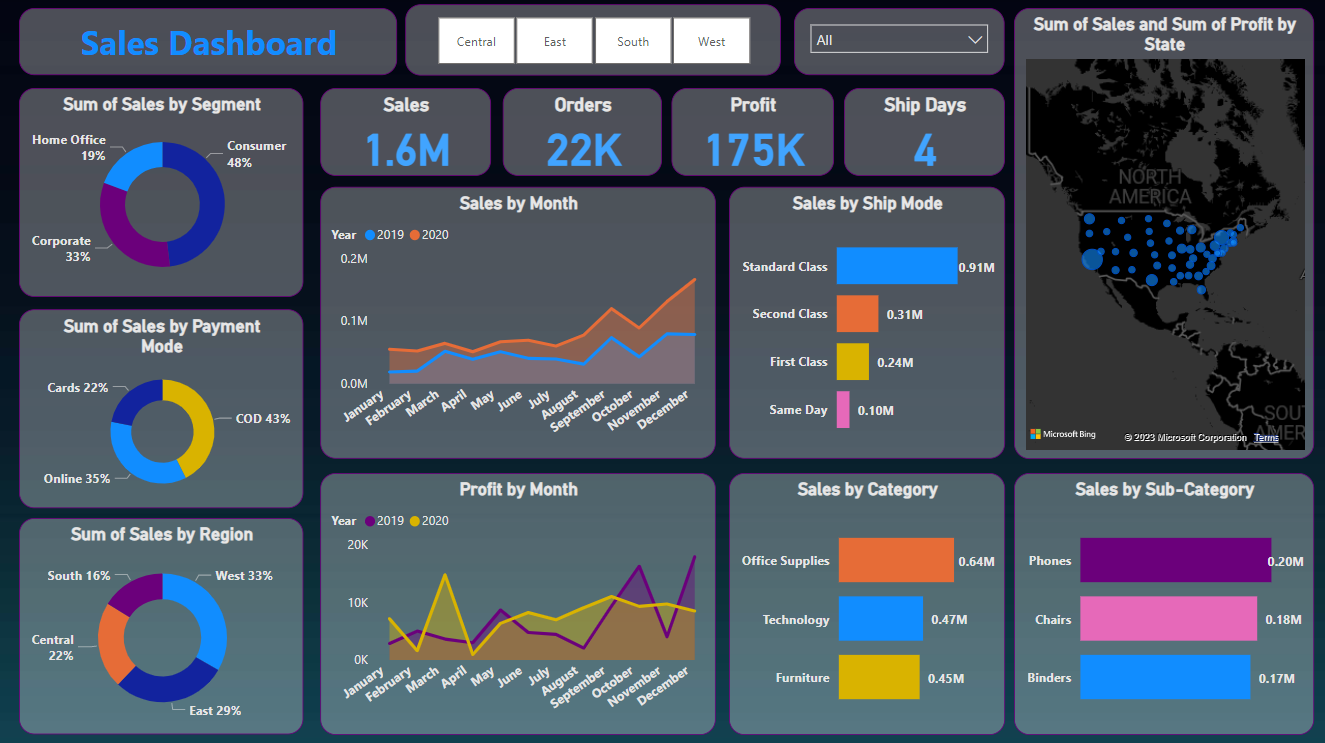

The page's visual inventory and layout, read from the dashboard file:
{"tool":"powerbi","page":{"name":"Page 1","canvas":[1280,720],"ordinal":0},"visuals":[{"type":"clusteredBarChart","title":"Sales by Category","fields":{"Category":["SuperStore_Sales_Dataset.Category"],"Y":["Sum(SuperStore_Sales_Dataset.Sales)"]},"box":[703.9,458.3,266.2,252.5],"z":0},{"type":"clusteredBarChart","title":"Sales by Sub-Category","fields":{"Y":["Sum(SuperStore_Sales_Dataset.Sales)"],"Category":["SuperStore_Sales_Dataset.Sub-Category"]},"box":[979.8,458.3,289.5,252.5],"z":1000},{"type":"clusteredBarChart","title":"Sales by Ship Mode","fields":{"Y":["Sum(SuperStore_Sales_Dataset.Sales)"],"Category":["SuperStore_Sales_Dataset.Ship Mode"]},"box":[703.9,182.5,266.2,262.1],"z":2000},{"type":"areaChart","title":"Sales by Month","fields":{"Y":["Sum(SuperStore_Sales_Dataset.Sales)"],"Category":["SuperStore_Sales_Dataset.Order Date.Variation.Date Hierarchy.Month","SuperStore_Sales_Dataset.Order Date.Variation.Date Hierarchy.Day"],"Series":["SuperStore_Sales_Dataset.Order Date.Variation.Date Hierarchy.Year"]},"box":[310.1,182.5,381.5,262.1],"z":3000},{"type":"areaChart","title":"Profit by Month","fields":{"Category":["SuperStore_Sales_Dataset.Order Date.Variation.Date Hierarchy.Month","SuperStore_Sales_Dataset.Order Date.Variation.Date Hierarchy.Day"],"Series":["SuperStore_Sales_Dataset.Order Date.Variation.Date Hierarchy.Year"],"Y":["Sum(SuperStore_Sales_Dataset.Profit)"]},"box":[310.1,458.3,381.5,252.5],"z":4000},{"type":"map","fields":{"Category":["SuperStore_Sales_Dataset.State"],"Size":["Sum(SuperStore_Sales_Dataset.Sales)"]},"box":[979.8,9.6,289.5,435],"z":5000},{"type":"donutChart","fields":{"Category":["SuperStore_Sales_Dataset.Segment"],"Y":["Sum(SuperStore_Sales_Dataset.Sales)"]},"box":[19.2,86.4,274.4,201.7],"z":6000},{"type":"donutChart","fields":{"Y":["Sum(SuperStore_Sales_Dataset.Sales)"],"Category":["SuperStore_Sales_Dataset.Payment Mode"]},"box":[19.2,300.5,274.4,192.1],"z":7000},{"type":"donutChart","fields":{"Y":["Sum(SuperStore_Sales_Dataset.Sales)"],"Category":["SuperStore_Sales_Dataset.Region"]},"box":[19.2,502.2,274.4,208.6],"z":8000},{"type":"slicer","fields":{"Values":["SuperStore_Sales_Dataset.Region"]},"box":[392.5,5.5,362.3,68.6],"z":9000},{"type":"textbox","box":[19.2,9.6,365,64.5],"z":10000},{"type":"card","title":"Sales","fields":{"Values":["Sum(SuperStore_Sales_Dataset.Sales)"]},"box":[310.1,86.4,164.7,85.1],"z":11000},{"type":"card","title":"Orders","fields":{"Values":["Sum(SuperStore_Sales_Dataset.Quantity)"]},"box":[485.8,86.4,153.7,85.1],"z":12000},{"type":"card","title":"Profit","fields":{"Values":["Sum(SuperStore_Sales_Dataset.Profit)"]},"box":[649.1,86.4,156.4,85.1],"z":13000},{"type":"card","title":"Ship Days","fields":{"Values":["Avg(SuperStore_Sales_Dataset.Avg del)"]},"box":[815.1,86.4,155.1,85.1],"z":14000},{"type":"slicer","fields":{"Values":["SuperStore_Sales_Dataset.City"]},"box":[767.1,9.6,203.1,64.5],"z":15000}]}

Visuals, with their boxes in screenshot pixels (x1, y1, x2, y2), scaled from the page's 1280x720 canvas onto the 1325x743 screenshot:
"Sales by Category" clusteredBarChart: [729, 473, 1004, 734]
"Sales by Sub-Category" clusteredBarChart: [1014, 473, 1314, 734]
"Sales by Ship Mode" clusteredBarChart: [729, 188, 1004, 459]
"Sales by Month" areaChart: [321, 188, 716, 459]
"Profit by Month" areaChart: [321, 473, 716, 734]
map - SuperStore_Sales_Dataset.State x Sum(SuperStore_Sales_Dataset.Sales): [1014, 10, 1314, 459]
donutChart - SuperStore_Sales_Dataset.Segment x Sum(SuperStore_Sales_Dataset.Sales): [20, 89, 304, 297]
donutChart - Sum(SuperStore_Sales_Dataset.Sales) x SuperStore_Sales_Dataset.Payment Mode: [20, 310, 304, 508]
donutChart - Sum(SuperStore_Sales_Dataset.Sales) x SuperStore_Sales_Dataset.Region: [20, 518, 304, 734]
slicer - SuperStore_Sales_Dataset.Region: [406, 6, 781, 76]
textbox: [20, 10, 398, 76]
"Sales" card: [321, 89, 491, 177]
"Orders" card: [503, 89, 662, 177]
"Profit" card: [672, 89, 834, 177]
"Ship Days" card: [844, 89, 1004, 177]
slicer - SuperStore_Sales_Dataset.City: [794, 10, 1004, 76]
